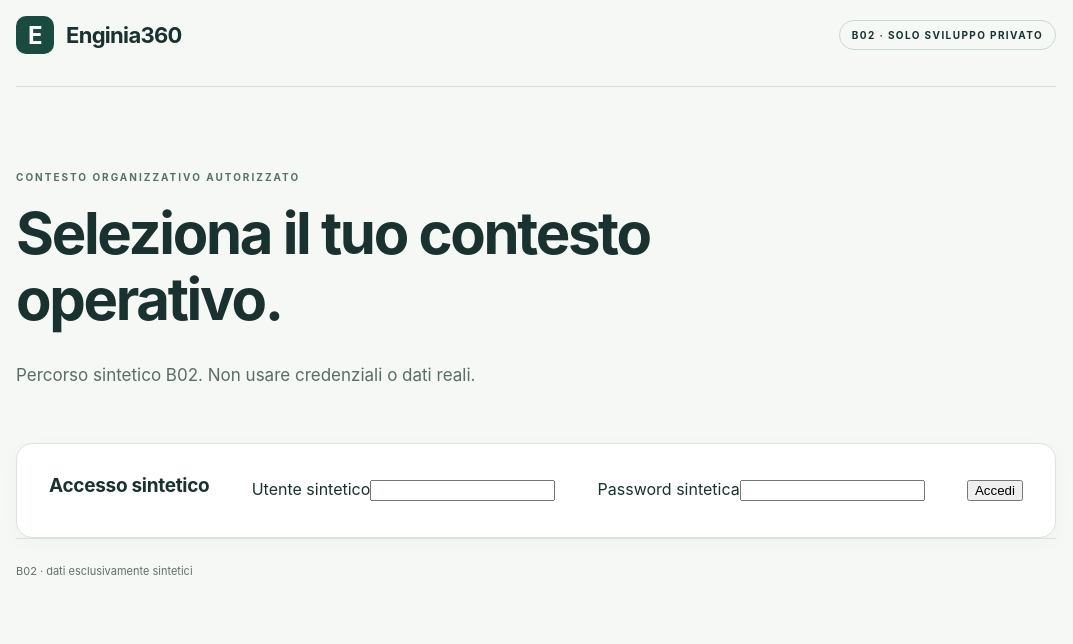
Test: B02 test UI does not expose Keycloak URLs in browser requests
Type "operatore-alfa-sintetico" into the field labelled "Utente sintetico" at (463, 491), box [370,480,555,501]
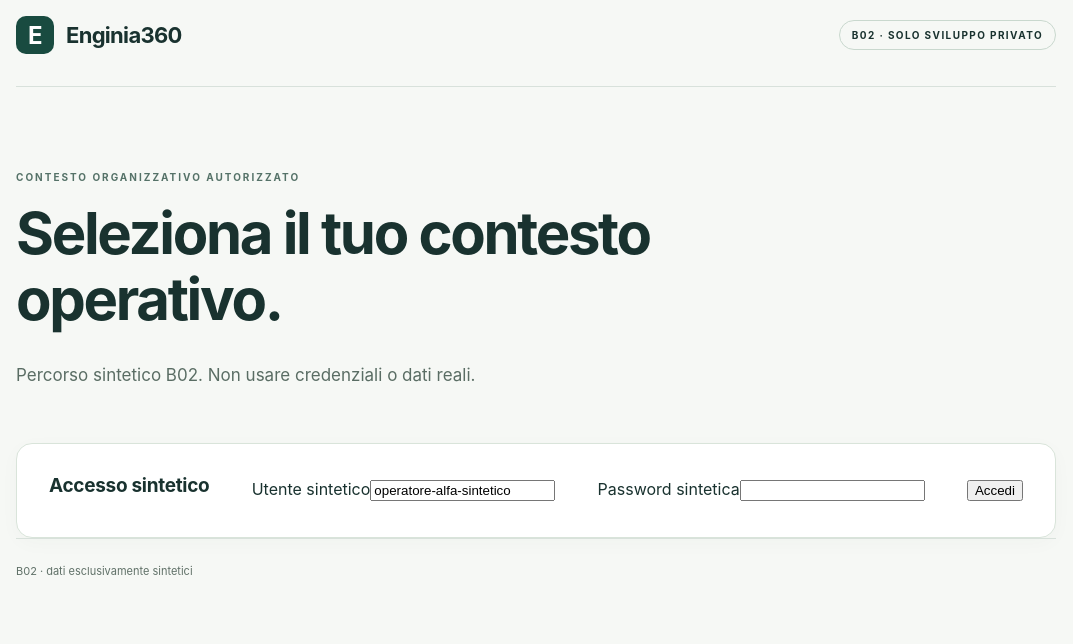
Type "password-effimera" into the password field labelled "Password sintetica" at (832, 491), box [740,480,925,501]
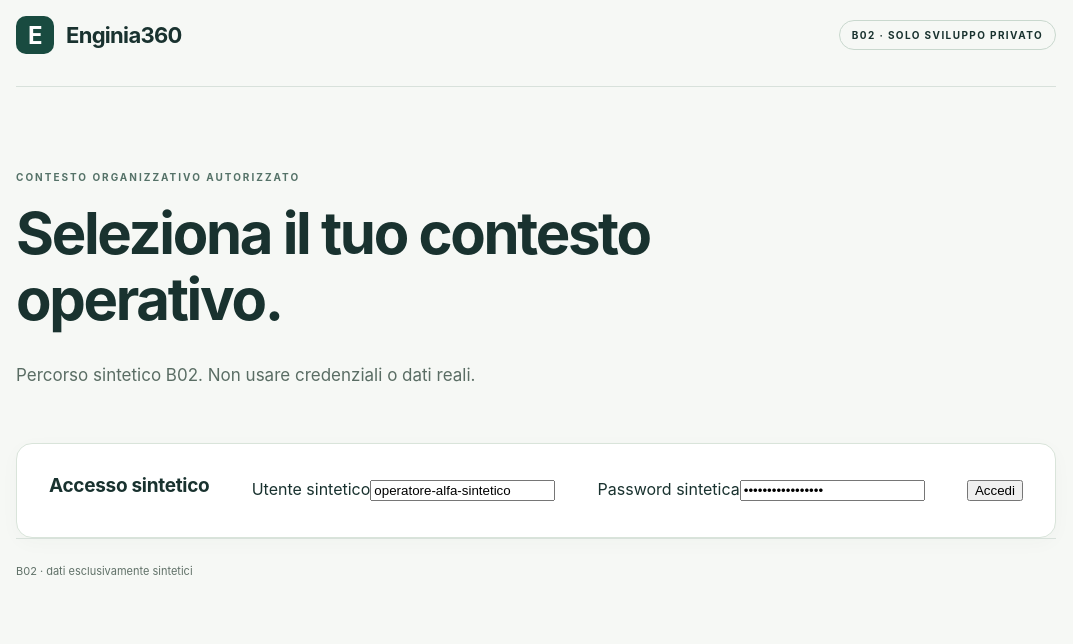
Click the button "Accedi" at (995, 490), box [967,480,1023,501]
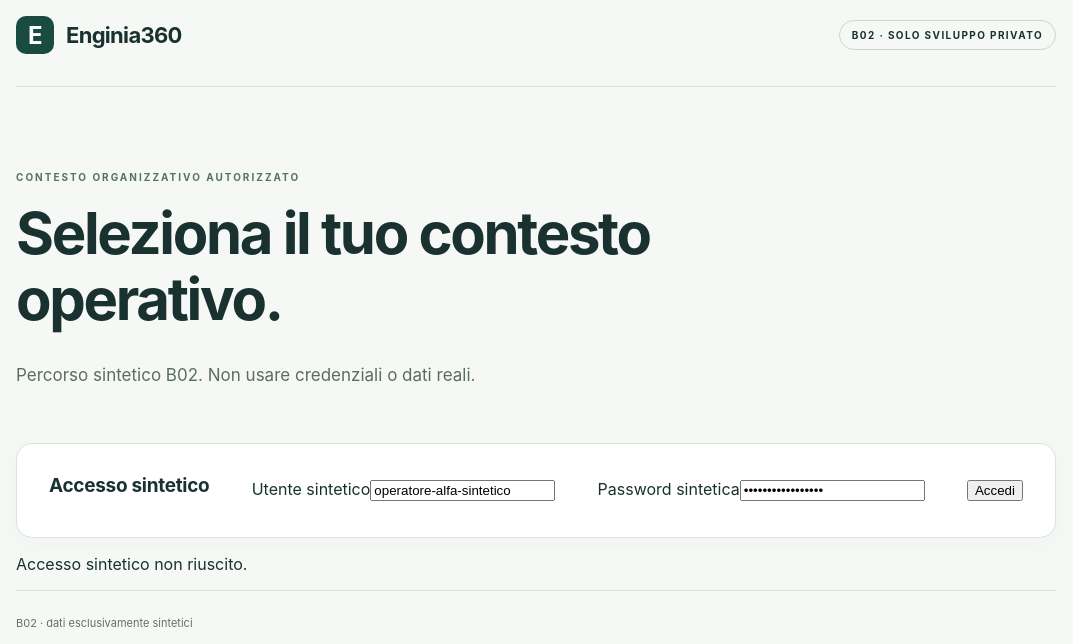
Expected: the message "Accesso sintetico non riuscito." is shown, [16,554,247,574]
